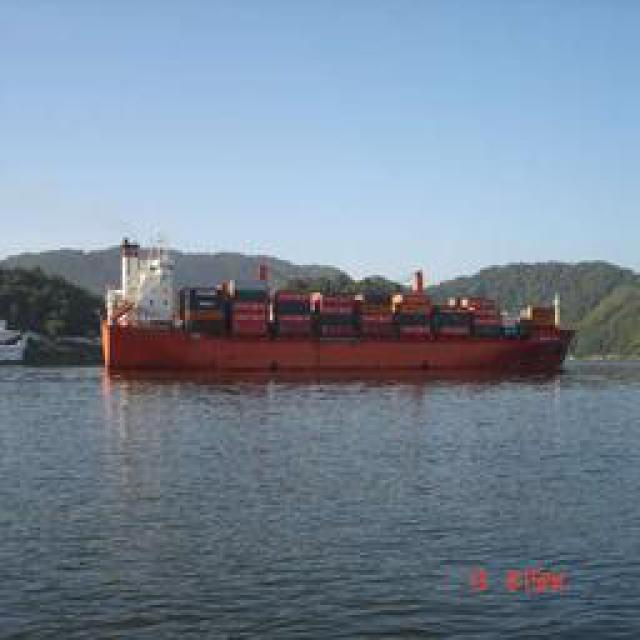Ship: (106, 245, 561, 385)
